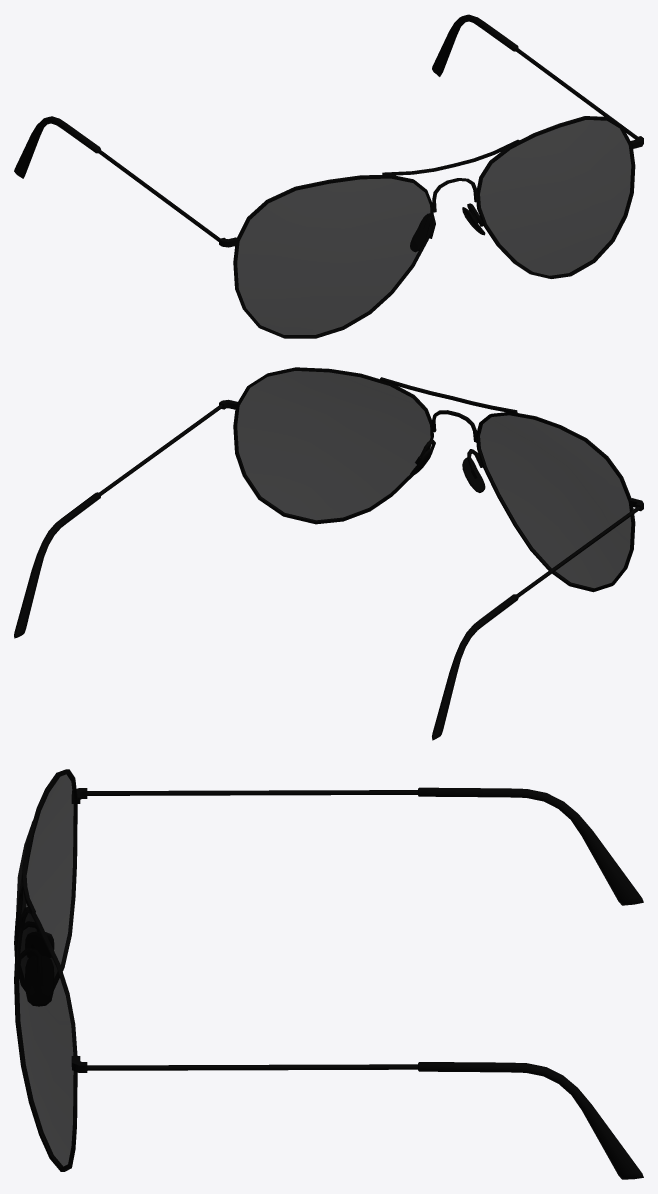
File: goldGlasses.glb
3 renders of one model, top to bottom at view 1: azimuth 30°, elevation 25°; view 2: azimuth 150°, elevation 25°; view 3: azimuth 270°, elevation 25°, orthographic. The views are drawn at different scales.
Visible parts, largest first — view 1: Object_1, Object_0; view 2: Object_1, Object_0; view 3: Object_0, Object_1.
Part boxes in pixels (left/top/right/bottom): Object_1: left=237, top=120, right=632, bottom=335; Object_0: left=14, top=14, right=643, bottom=338; Object_1: left=237, top=371, right=631, bottom=588; Object_0: left=14, top=367, right=643, bottom=740; Object_0: left=14, top=769, right=643, bottom=1179; Object_1: left=15, top=774, right=74, bottom=1167.
Bounding box in the file's own units: 120 × 42.16 × 114.
2 materials, 1 textured.
